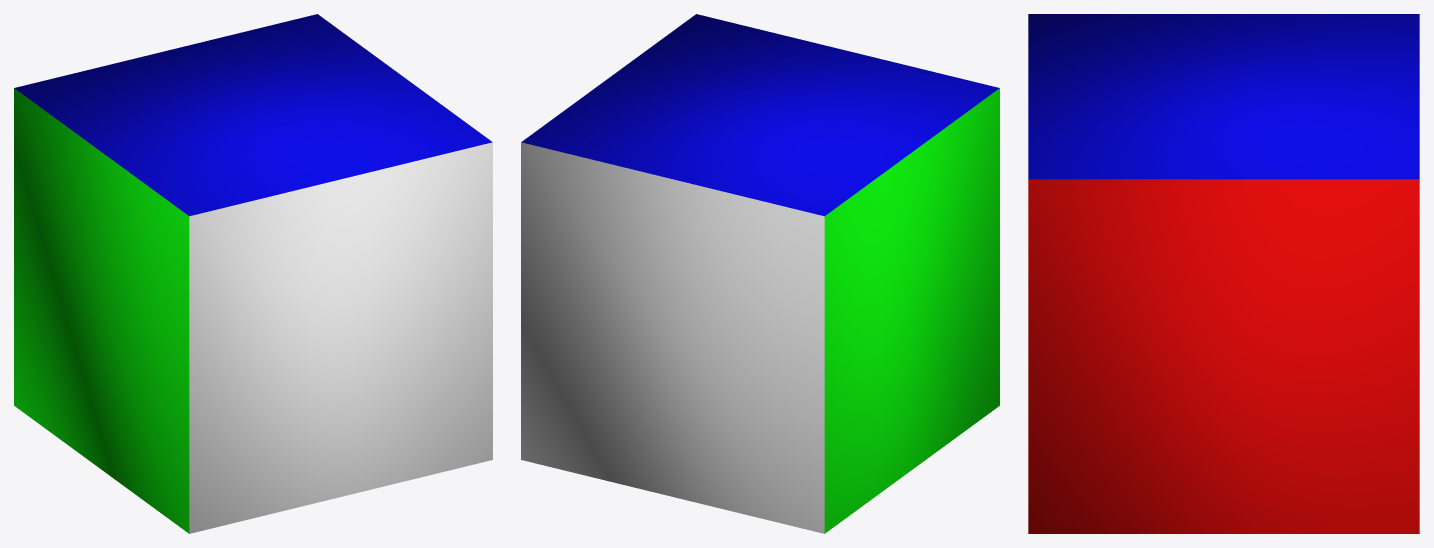
3 views of the same model, side by side, from view 1: azimuth 30°, elevation 25°; view 2: azimuth 150°, elevation 25°; view 3: azimuth 270°, elevation 25° (orthographic). The views are drawn at different scales.
Parts seen in each view (by area): view 1: Cube; view 2: Cube; view 3: Cube.
Boxes of the visible parts, x1,y1,x2,y2 form: Cube: (14, 14, 492, 533); Cube: (521, 14, 999, 533); Cube: (1028, 14, 1419, 533).
Bounding box in the file's own units: 1.12 × 1.12 × 1.12.
